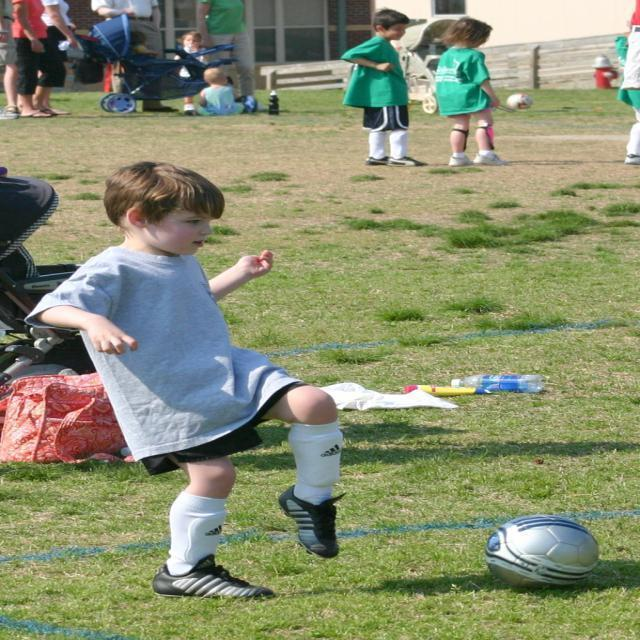ball: (485, 515, 602, 592), (508, 93, 532, 111)
